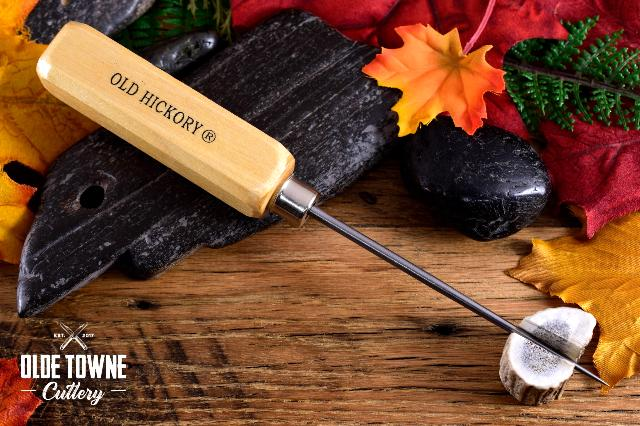ice pick: (36, 21, 612, 386)
